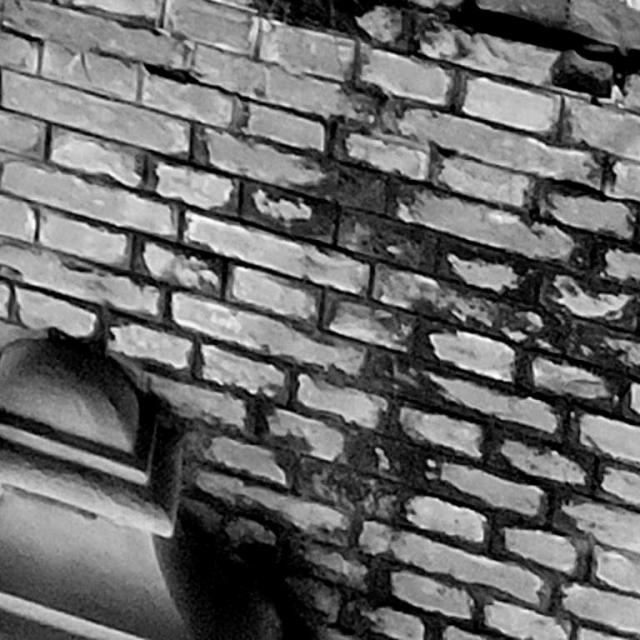crack: (447, 1, 639, 73)
